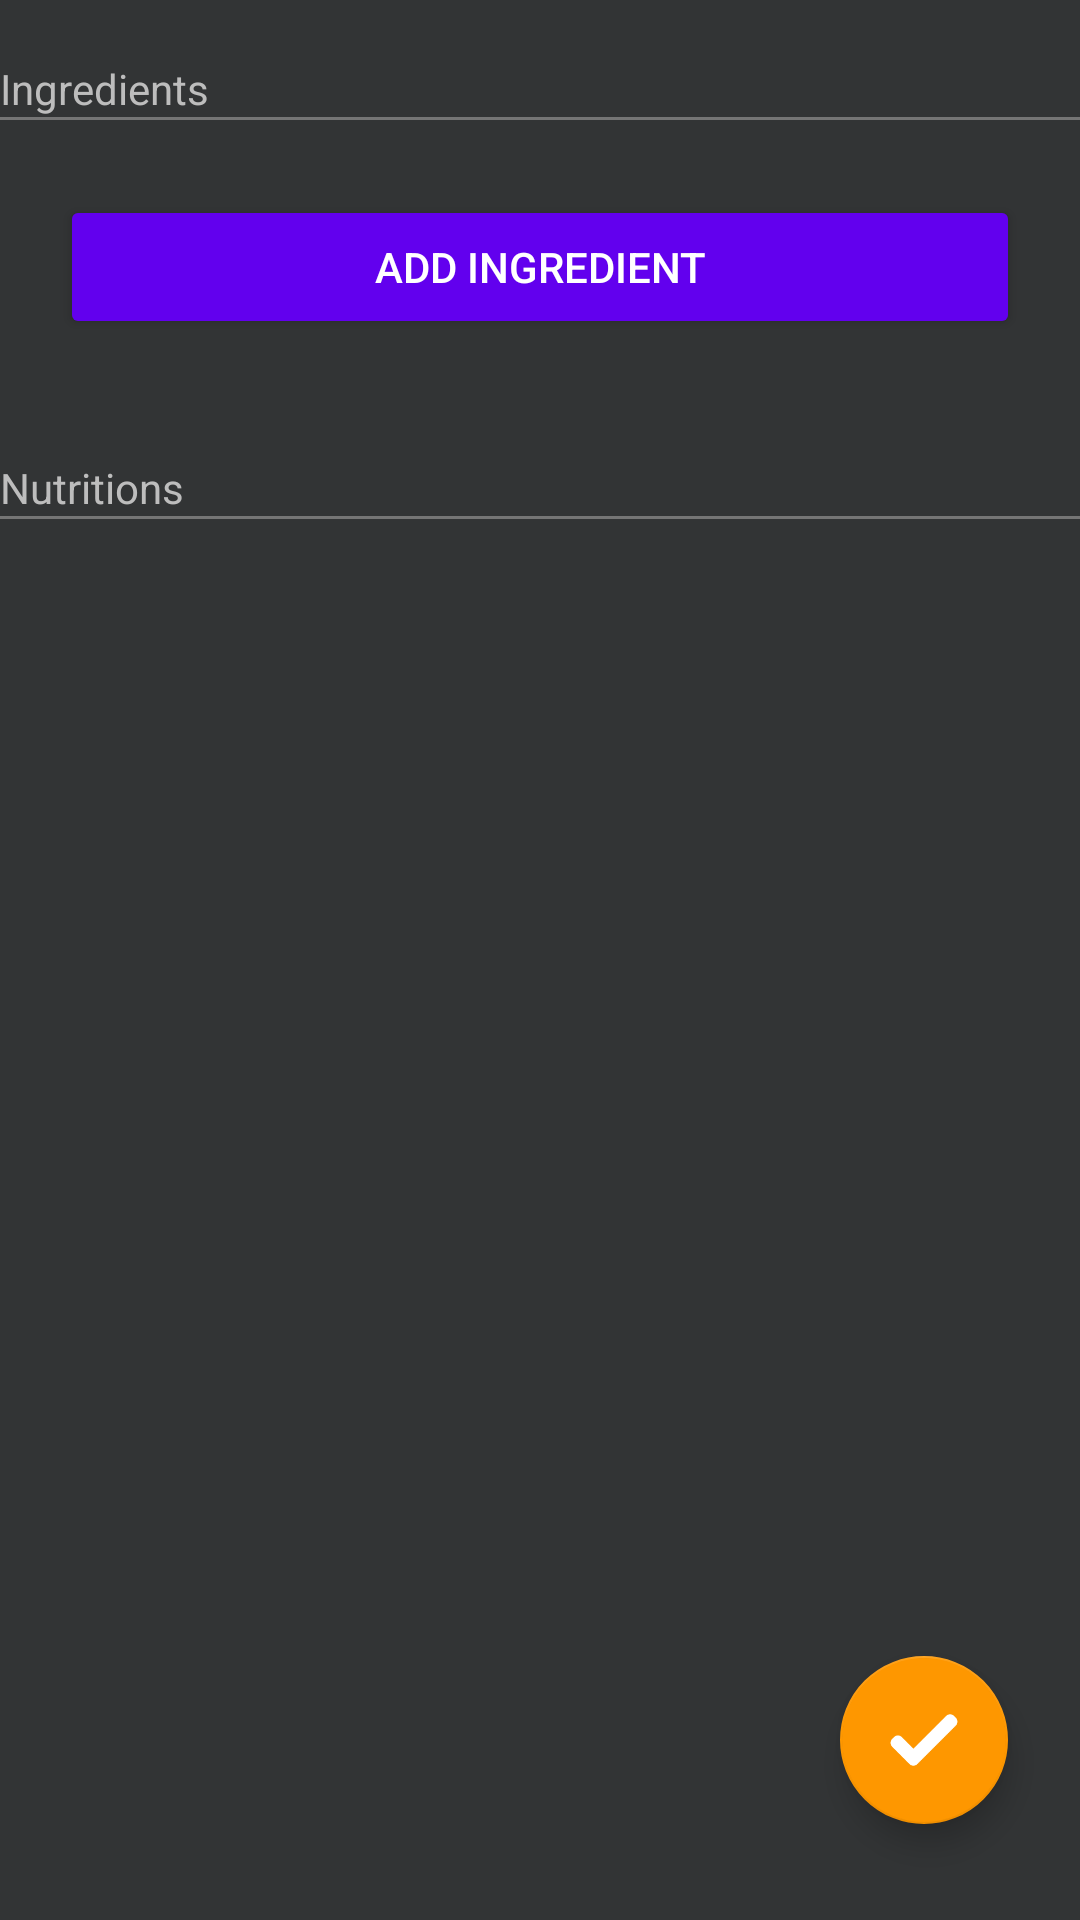

Locate icon controls on the screen. Image size 1080 × 1920, boxes as (x1=x1, y1=y1, x2=x2, y2=y2).
accept: (x1=840, y1=1656, x2=1008, y2=1824)
